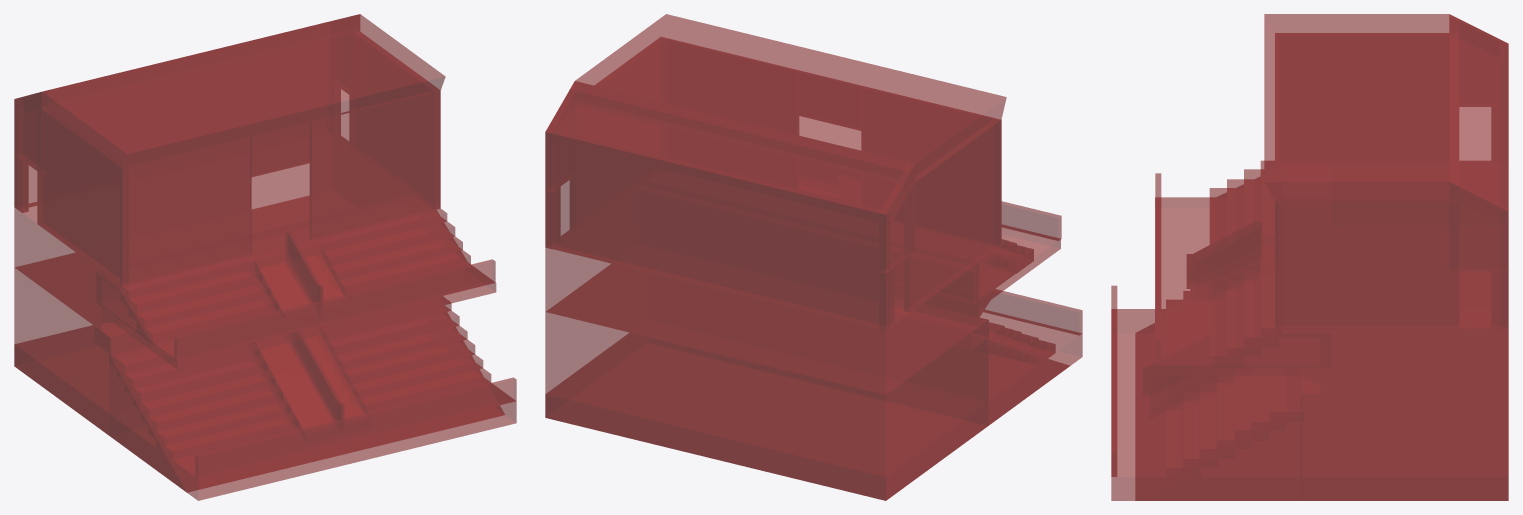
Rendered from SM_Bld_Grandstand_VIP_01_Collision.fbx.
3 renders of one model, left to right at view 1: azimuth 30°, elevation 25°; view 2: azimuth 150°, elevation 25°; view 3: azimuth 270°, elevation 25°, orthographic. The views are drawn at different scales.
Visible parts, largest first — view 1: SM_Bld_Grandstand_VIP_01_Collision; view 2: SM_Bld_Grandstand_VIP_01_Collision; view 3: SM_Bld_Grandstand_VIP_01_Collision.
Boxes of the visible parts, left/top/right/bottom form: SM_Bld_Grandstand_VIP_01_Collision: left=14, top=14, right=516, bottom=500; SM_Bld_Grandstand_VIP_01_Collision: left=545, top=14, right=1082, bottom=500; SM_Bld_Grandstand_VIP_01_Collision: left=1111, top=14, right=1508, bottom=500.
Size of the model in its own units: 1253 by 1106 by 1250.
